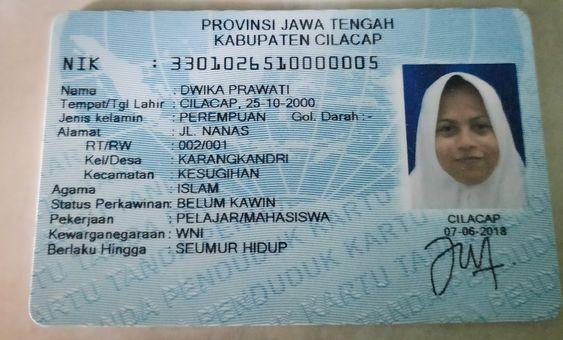ID-card: (38, 10, 560, 321)
